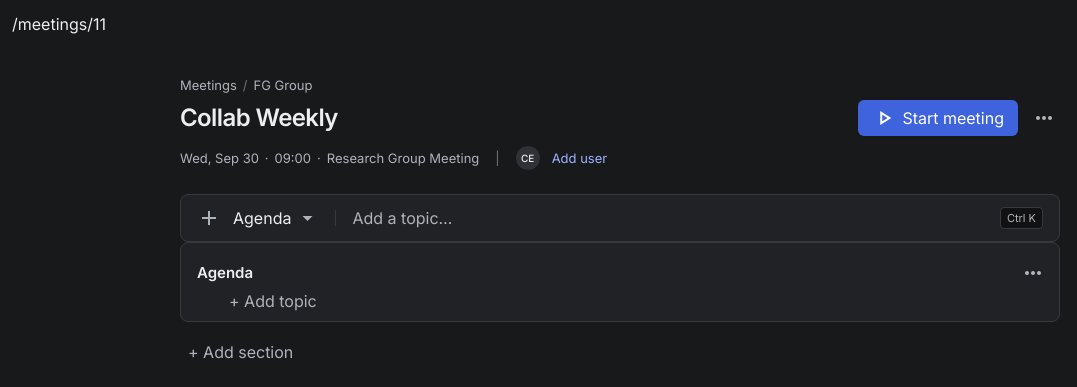
Test: MeetingDetailPage inline section creation › cancels with Escape without a request
The image size is (1077, 387).
Expected: the heading "Collab Weekly" is shown, [180,102,338,134]
Click the button "+ Add section" at (241, 352), box [180,338,1060,366]
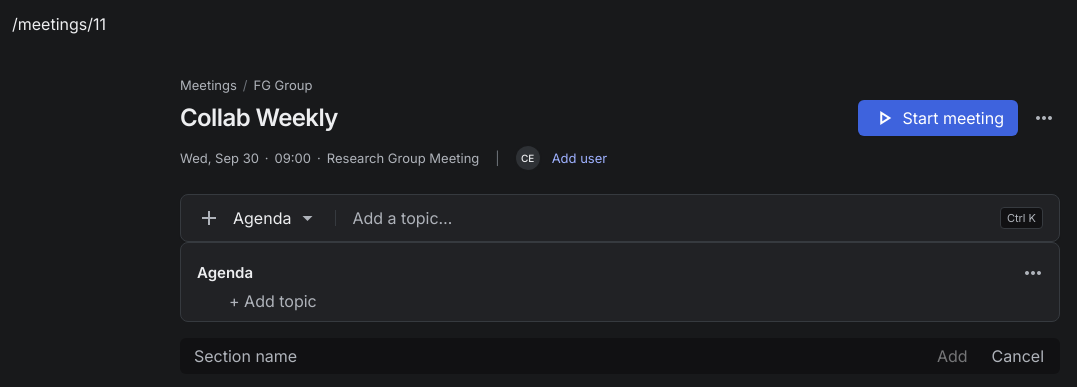
Type "Draft" into the field named "New section name" at (554, 356), box [188,342,921,370]
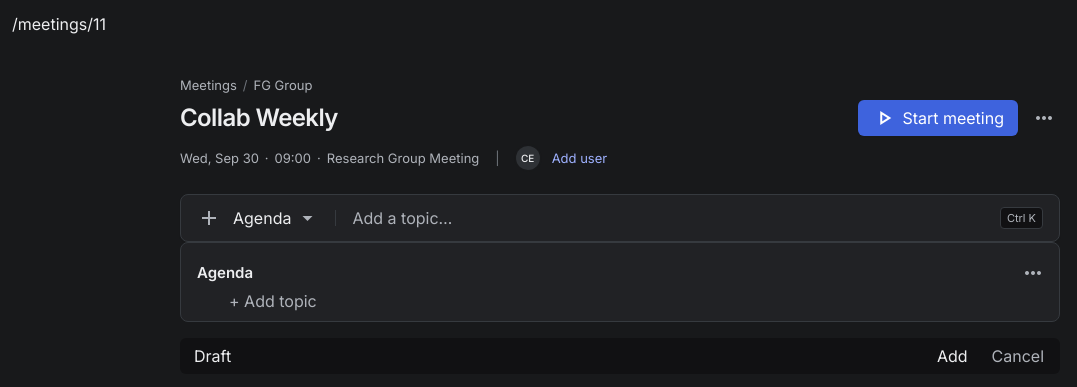
Press Escape in the field named "New section name", box [188,342,921,370]
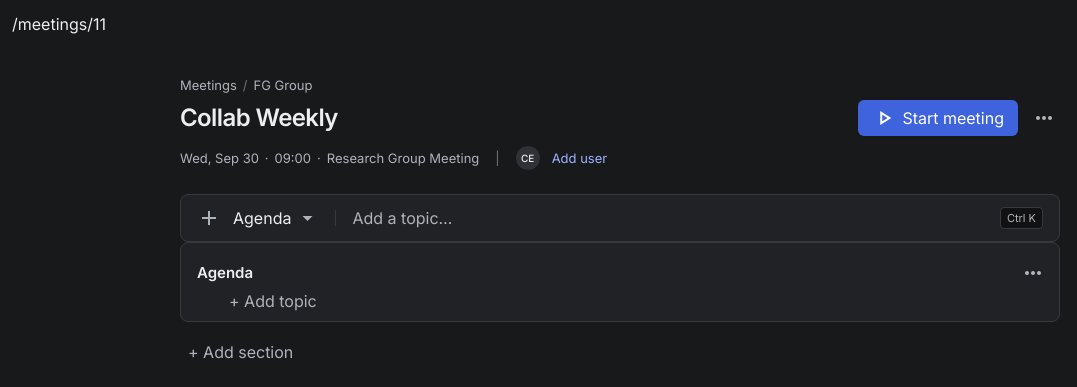
Result: the button "+ Add section" is shown at [180,338,1060,366]
